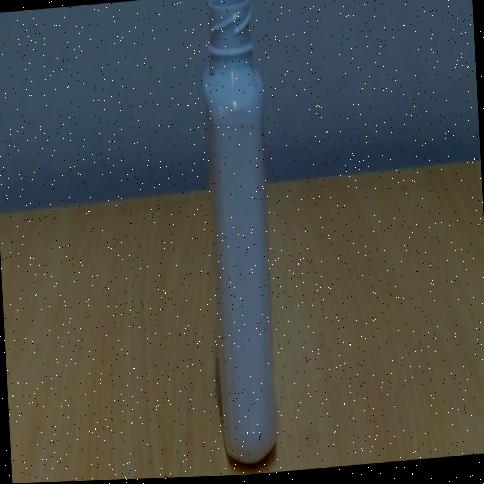bottle: (203, 0, 276, 462)
